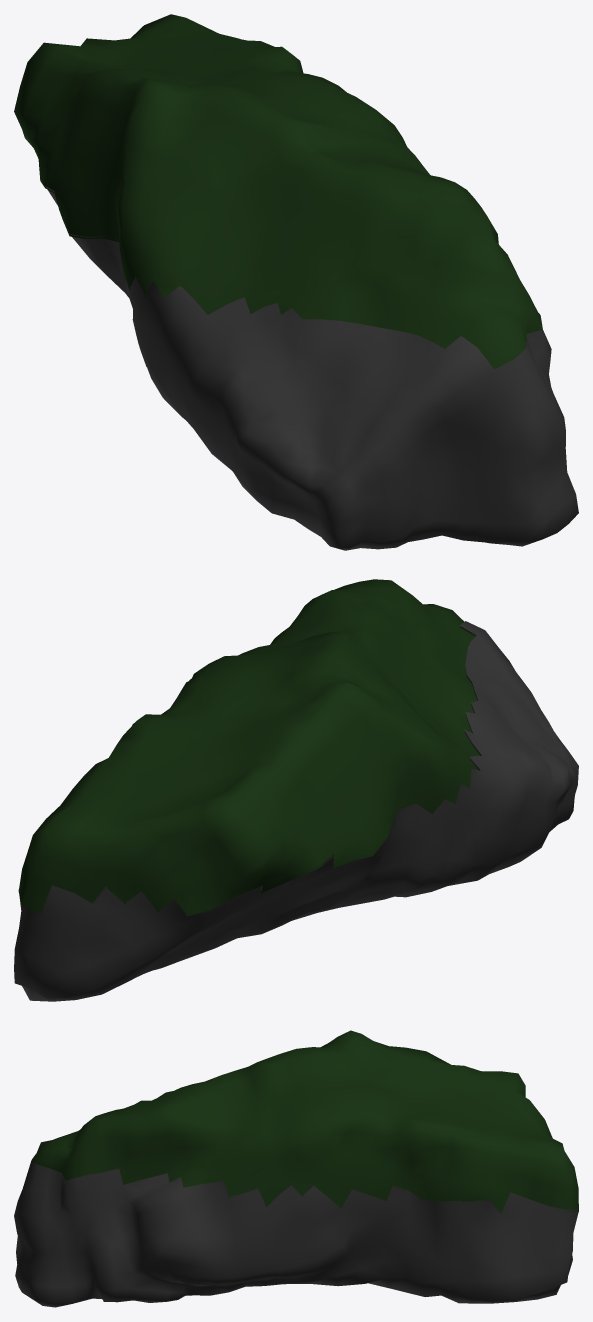
File: Rock1.FBX
The picture shows the model from 3 angles, top to bottom: view 1: azimuth 30°, elevation 25°; view 2: azimuth 150°, elevation 25°; view 3: azimuth 270°, elevation 25°; orthographic projection. The views are drawn at different scales.
Parts seen in each view (by area): view 1: TopRock, RockBottom; view 2: TopRock, RockBottom; view 3: TopRock, RockBottom.
Boxes of the visible parts, x1,y1,x2,y2 form: TopRock: (14, 14, 542, 369); RockBottom: (45, 186, 578, 550); TopRock: (18, 579, 480, 916); RockBottom: (14, 621, 578, 1001); TopRock: (32, 1030, 578, 1213); RockBottom: (14, 1140, 578, 1307).
Bounding box in the file's own units: 16.96 × 16.02 × 37.98.
